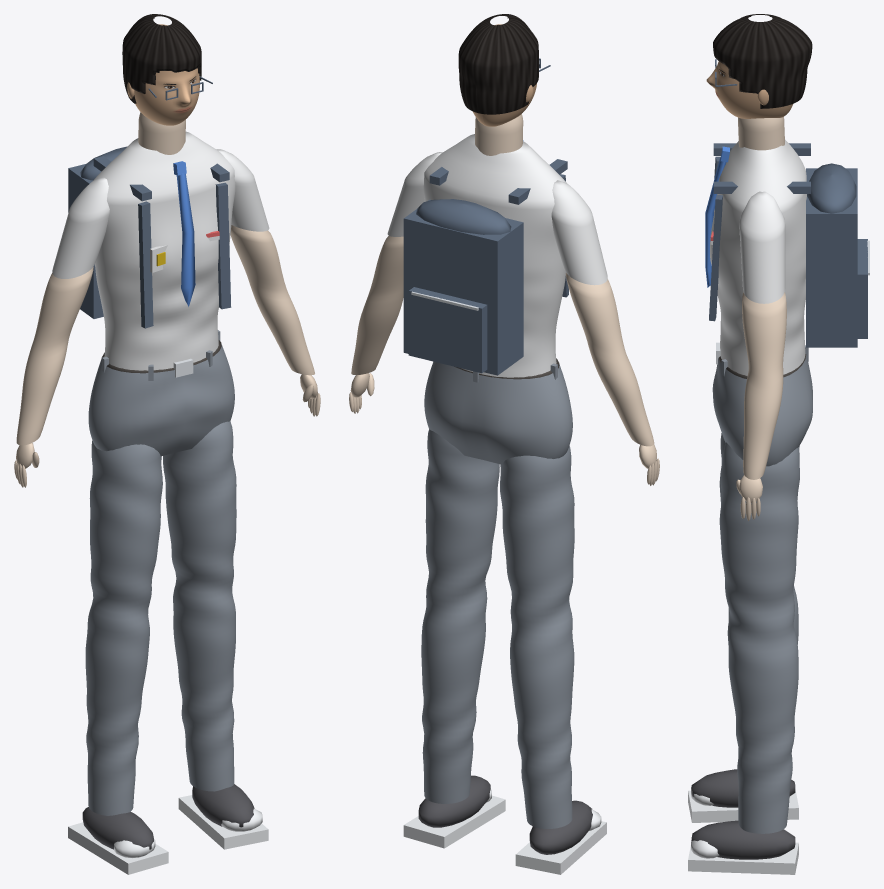
The model's file is csl_char_aris.glb.
The picture shows the model from 3 angles, left to right: view 1: azimuth 30°, elevation 25°; view 2: azimuth 150°, elevation 25°; view 3: azimuth 270°, elevation 25°; orthographic projection.
Parts seen in each view (by area): view 1: Torso, ShinL, ShinR, LegL, LegR, Head, ArmL, ForeArmL, ForeArmR, ArmR; view 2: Torso, ShinL, ShinR, LegL, LegR, Head, ArmL, ForeArmL, ForeArmR, ArmR; view 3: Torso, ShinR, LegR, Head, ArmR, ForeArmR, ShinL.
Part boxes in pixels (<box>): Torso: <box>68,112,235,456</box>; ShinL: <box>68,612,168,874</box>; ShinR: <box>173,592,268,849</box>; LegL: <box>89,440,162,626</box>; LegR: <box>163,421,236,605</box>; Head: <box>122,14,212,125</box>; ArmL: <box>38,177,109,330</box>; ForeArmL: <box>14,319,75,487</box>; ForeArmR: <box>243,266,320,416</box>; ArmR: <box>216,149,281,275</box>; Torso: <box>403,114,572,464</box>; ShinL: <box>510,622,606,874</box>; ShinR: <box>403,602,505,848</box>; LegL: <box>500,445,574,635</box>; LegR: <box>425,429,499,614</box>; Head: <box>458,14,550,126</box>; ArmL: <box>551,180,620,338</box>; ForeArmL: <box>581,324,659,485</box>; ForeArmR: <box>349,278,403,413</box>; ArmR: <box>373,152,442,282</box>; Torso: <box>705,117,869,466</box>; ShinR: <box>688,627,798,874</box>; LegR: <box>719,442,799,638</box>; Head: <box>706,14,812,118</box>; ArmR: <box>739,191,786,360</box>; ForeArmR: <box>736,349,784,520</box>; ShinL: <box>688,585,798,822</box>.
Size of the model in its own units: 0.6483 by 1.68 by 0.3386.
Materials: 15 (1 with a texture image).
